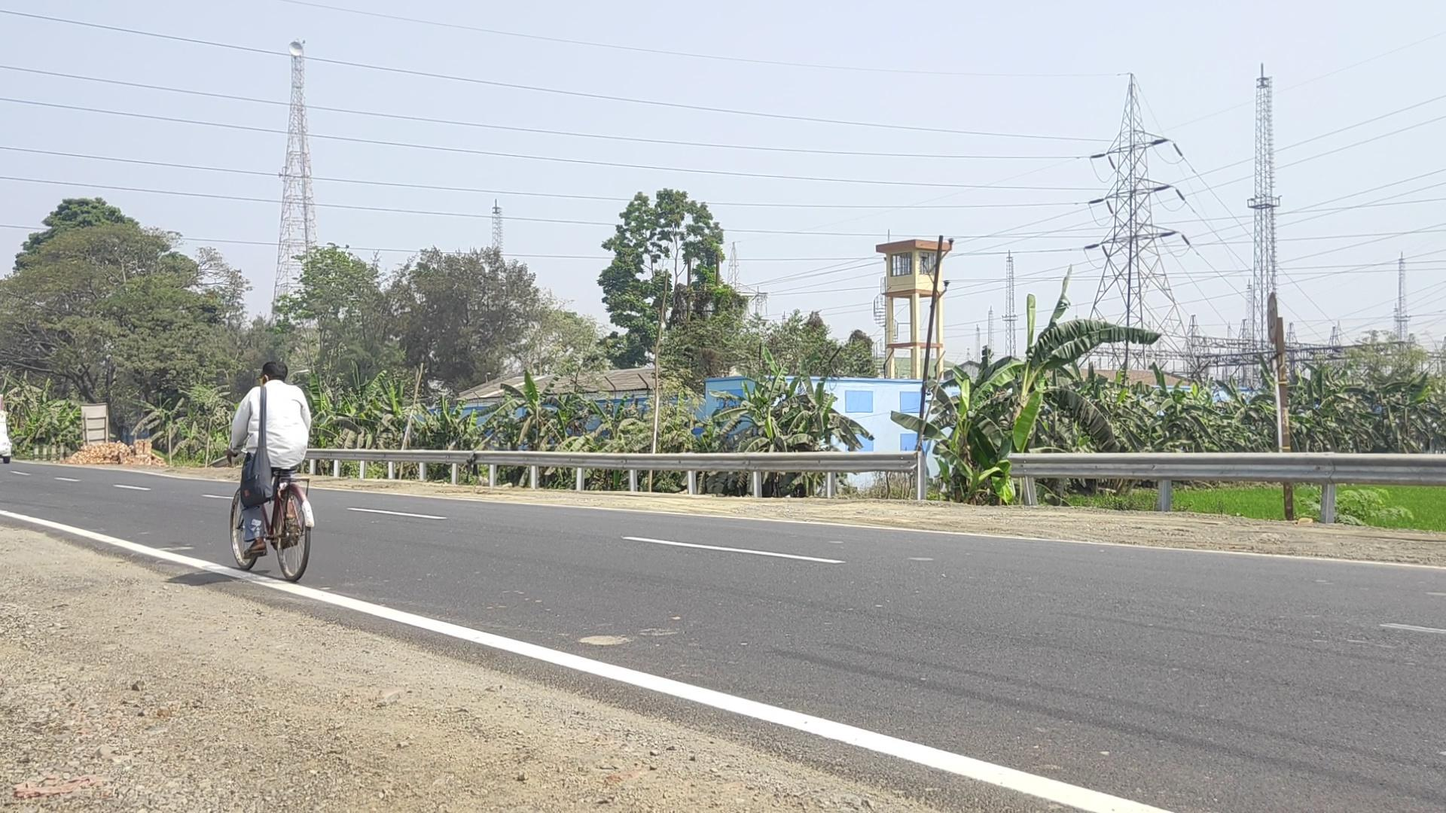bike: (227, 361, 315, 583)
